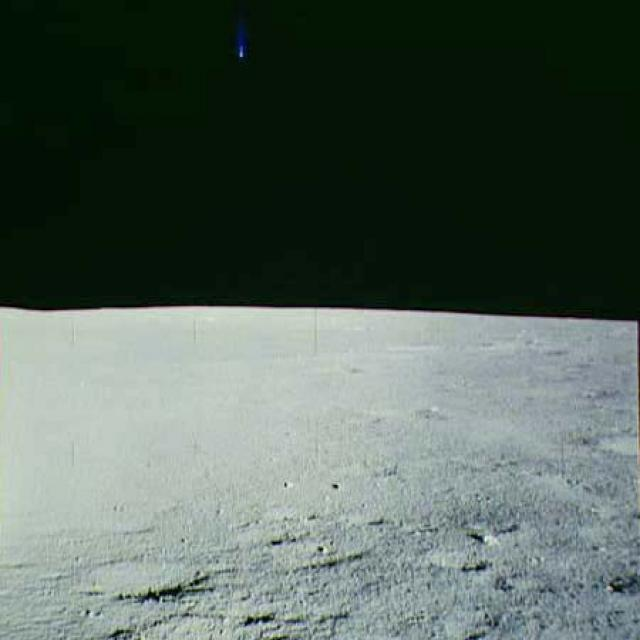crater: (68, 543, 228, 603), (210, 513, 324, 551), (427, 540, 516, 586), (317, 499, 424, 527), (324, 451, 402, 483)
